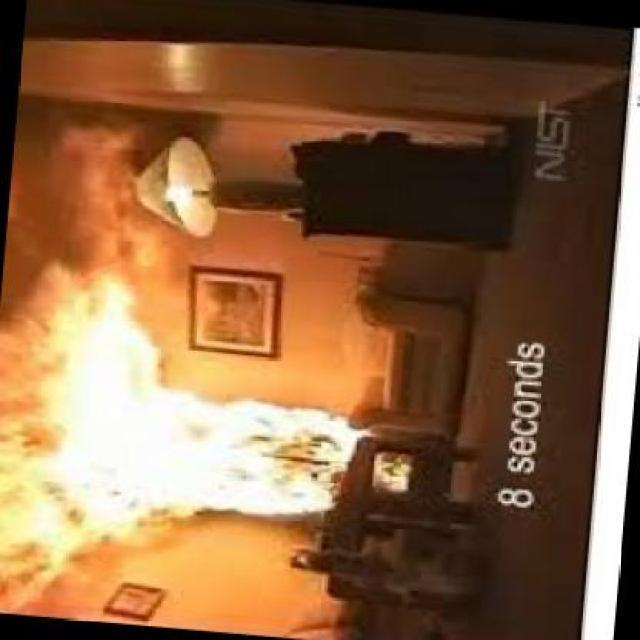Fire: (0, 263, 360, 589)
